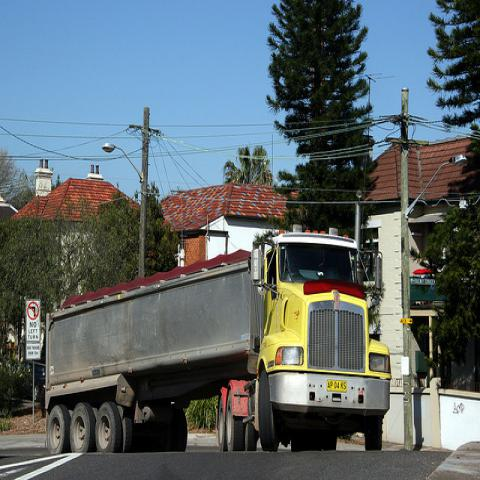truck: (46, 227, 391, 456)
